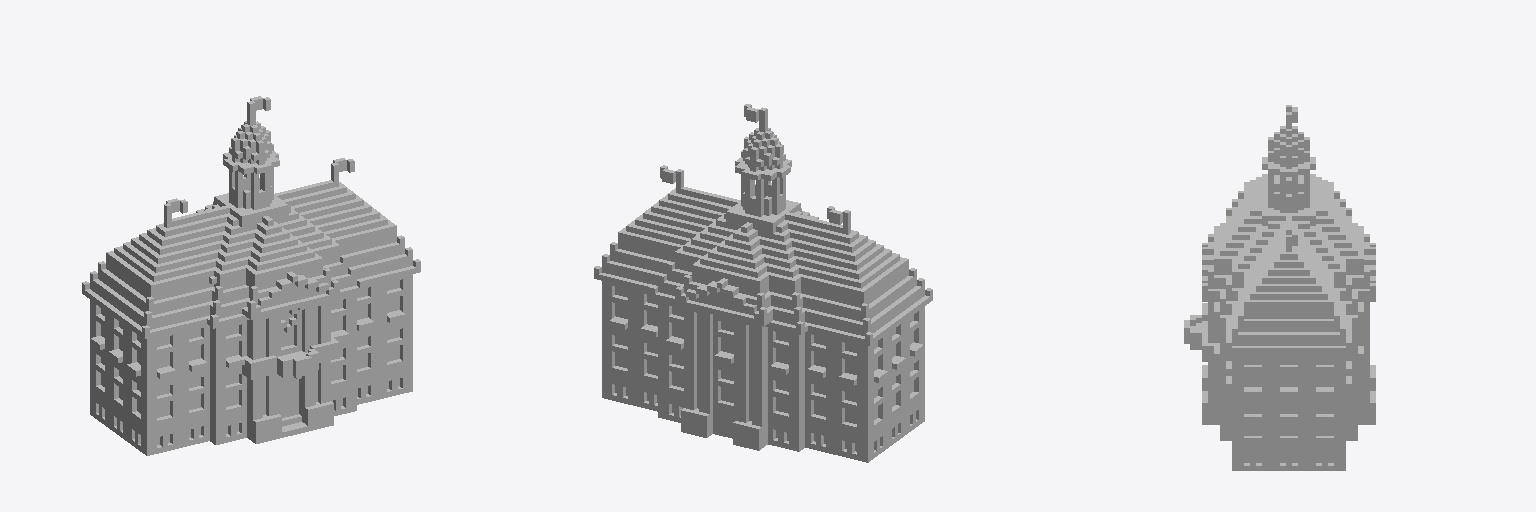
The model's file is townhall.obj.
3 renders of one model, left to right at view 1: azimuth 30°, elevation 25°; view 2: azimuth 150°, elevation 25°; view 3: azimuth 270°, elevation 25°, orthographic.
Visible parts, largest first — view 1: VoxVR; view 2: VoxVR; view 3: VoxVR.
Part boxes in pixels (left/top/right/bottom): VoxVR: left=82, top=96, right=420, bottom=455; VoxVR: left=594, top=104, right=932, bottom=462; VoxVR: left=1184, top=105, right=1375, bottom=470.
Bounding box in the file's own units: 13.25 × 13.75 × 8.